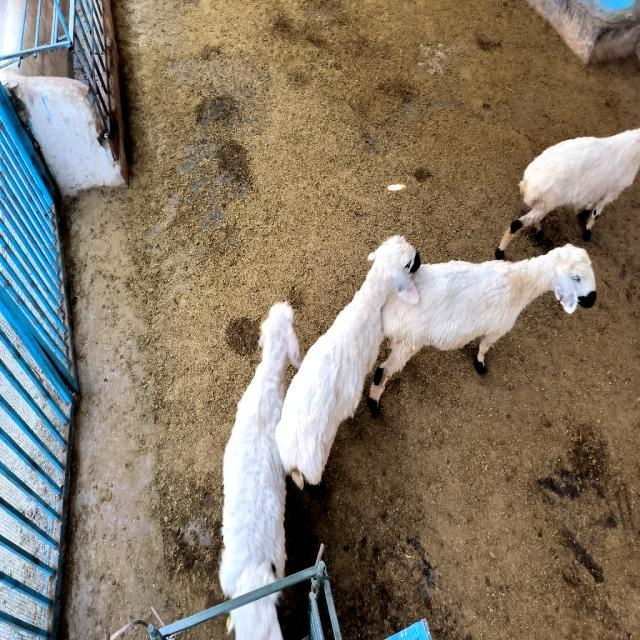sheep: (369, 243, 595, 411), (275, 237, 420, 488), (219, 302, 301, 598), (495, 129, 640, 258), (228, 593, 282, 638)
